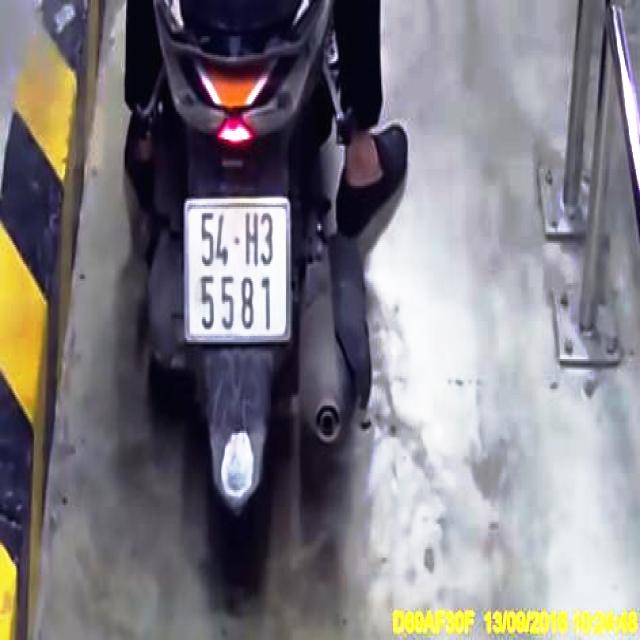license_plate: (187, 200, 292, 337)
